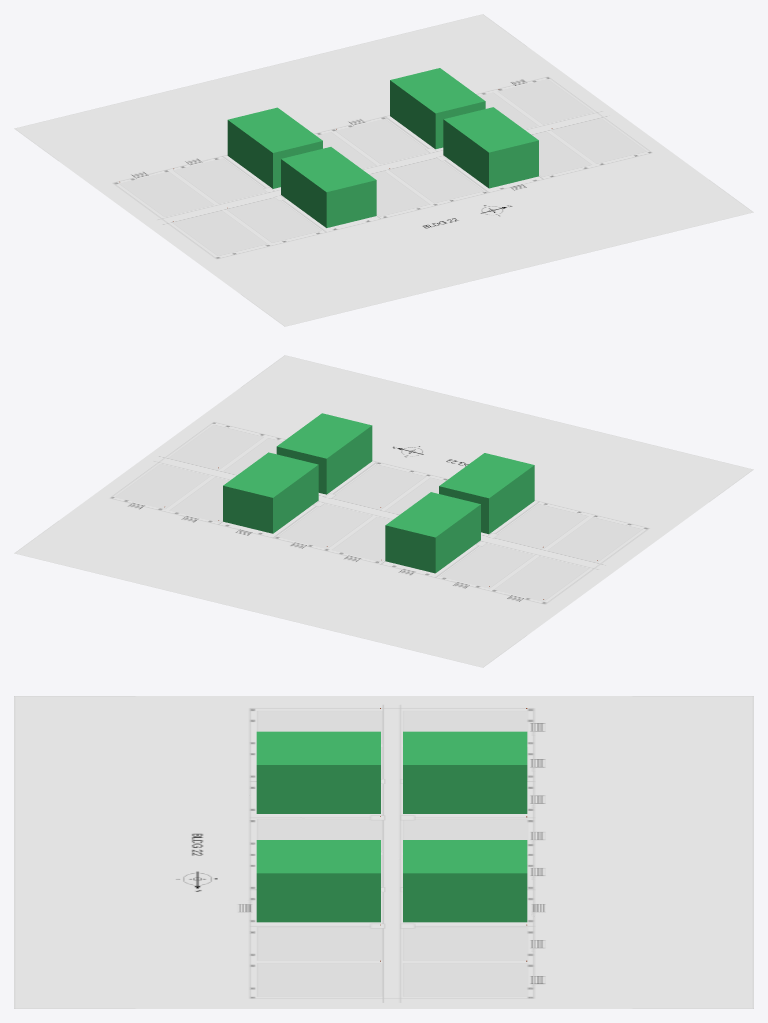
Rendered from bldg-22.glb.
3 renders of one model, top to bottom at view 1: azimuth 30°, elevation 25°; view 2: azimuth 150°, elevation 25°; view 3: azimuth 270°, elevation 25°, orthographic. The views are drawn at different scales.
Visible parts, largest first — view 1: building-22-map, BAY_3E__HIIT, BAY_6E__HIIT, BAY_6W__HIIT, BAY_3W__HIIT; view 2: building-22-map, BAY_3W__HIIT, BAY_6W__HIIT, BAY_3E__HIIT, BAY_6E__HIIT; view 3: building-22-map, BAY_6W__HIIT, BAY_3W__HIIT, BAY_6E__HIIT, BAY_3E__HIIT.
Part boxes in pixels (<box>): building-22-map: <box>14,14,753,326</box>; BAY_3E__HIIT: <box>443,107,538,188</box>; BAY_6E__HIIT: <box>281,147,376,227</box>; BAY_6W__HIIT: <box>227,107,322,188</box>; BAY_3W__HIIT: <box>390,68,485,149</box>; building-22-map: <box>14,355,753,667</box>; BAY_3W__HIIT: <box>223,452,318,533</box>; BAY_6W__HIIT: <box>385,492,480,573</box>; BAY_3E__HIIT: <box>276,413,372,494</box>; BAY_6E__HIIT: <box>439,453,534,534</box>; building-22-map: <box>14,696,753,1008</box>; BAY_6W__HIIT: <box>403,731,527,813</box>; BAY_3W__HIIT: <box>403,840,527,922</box>; BAY_6E__HIIT: <box>256,731,380,813</box>; BAY_3E__HIIT: <box>256,840,380,922</box>.
Bounding box in the file's own units: 563 × 43.28 × 563.
Materials: 3 (1 with a texture image).
